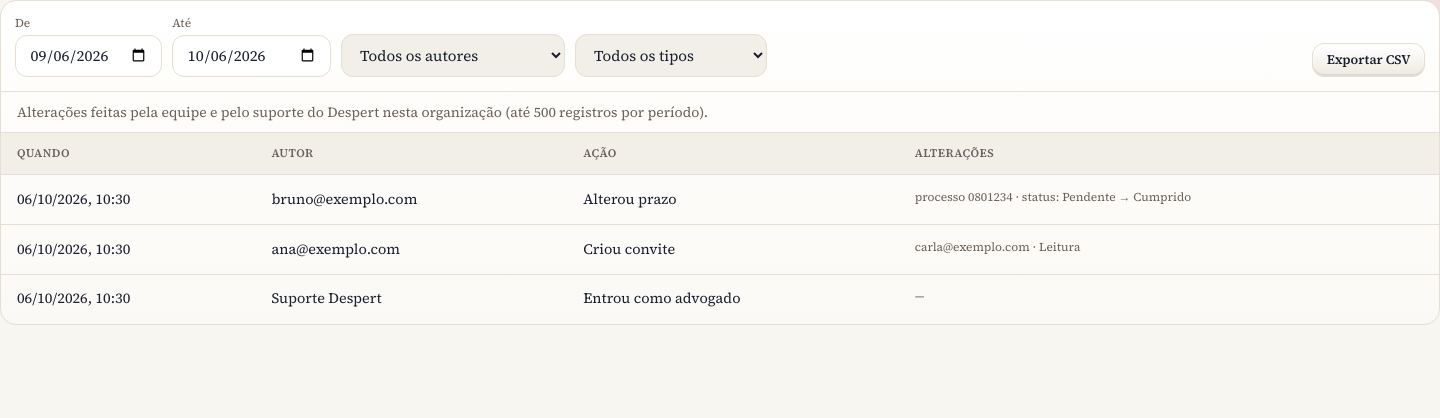
Test: tela Auditoria › avisa quando a data inicial passa da final e trava a exportação
Type "2026-10-20" into the date field labelled "De" at (89, 56), box [15, 35, 162, 77]
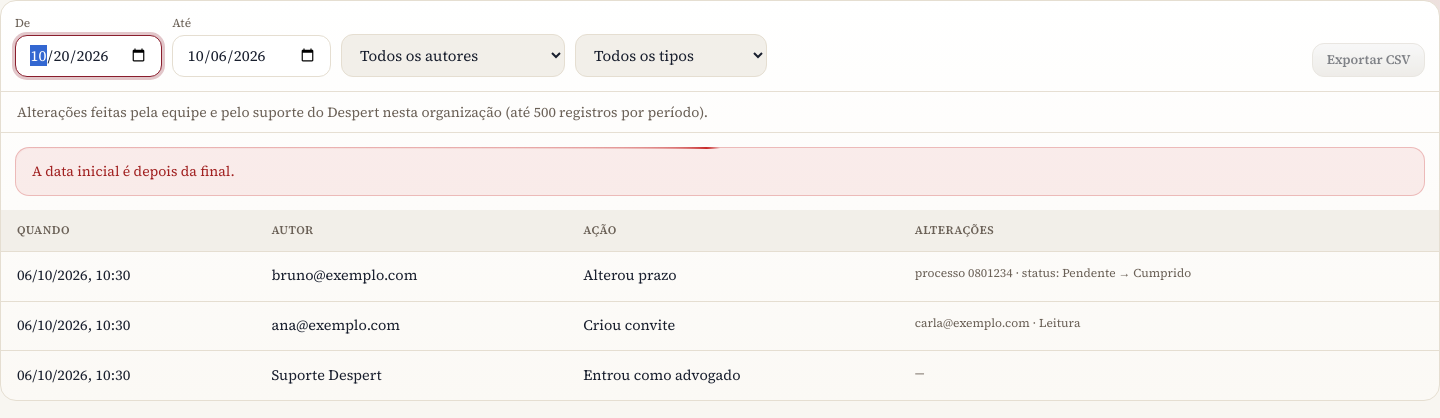
Expected: the text "A data inicial é depois da final." is shown, [15, 147, 1425, 196]
Expected: the button "Exportar CSV" is disabled, [1312, 43, 1425, 77]
